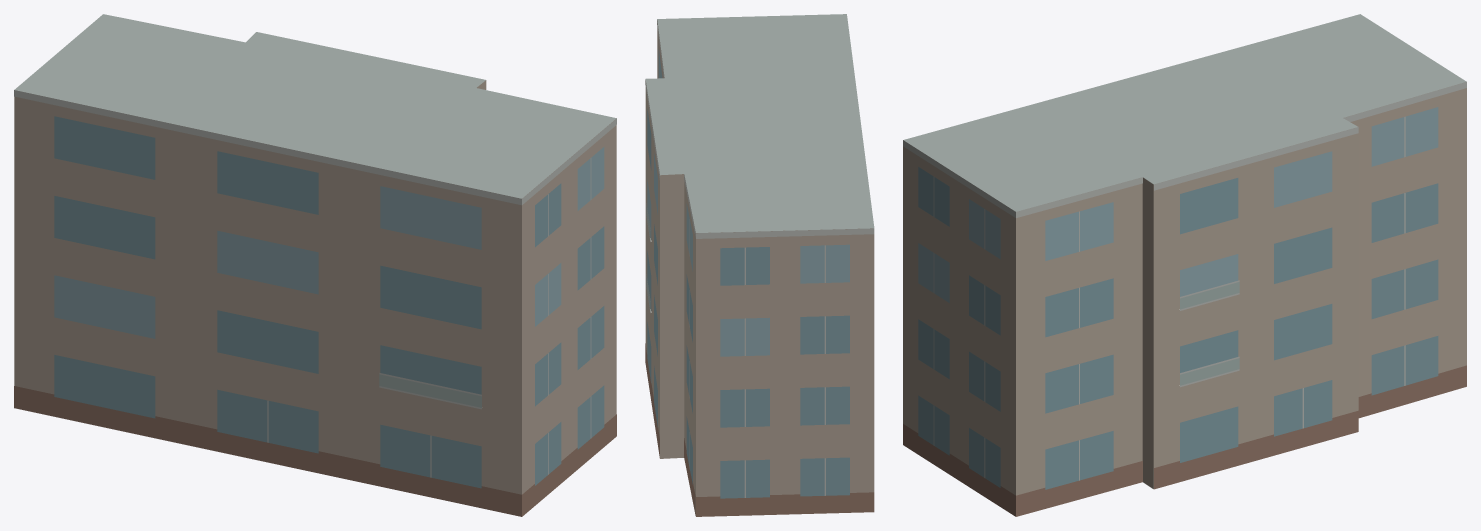
Rendered from survey-upis-32589997.glb.
3 renders of one model, left to right at view 1: azimuth 30°, elevation 25°; view 2: azimuth 150°, elevation 25°; view 3: azimuth 270°, elevation 25°, orthographic. The views are drawn at different scales.
Parts seen in each view (by area): view 1: survey-upis-32589997.tmp; view 2: survey-upis-32589997.tmp; view 3: survey-upis-32589997.tmp.
Part boxes in pixels (x1,y1,x2,y2): survey-upis-32589997.tmp: (14,14,616,516); survey-upis-32589997.tmp: (645,14,874,516); survey-upis-32589997.tmp: (903,14,1466,516).
Size of the model in its own units: 16.43 by 11.8 by 19.78.
